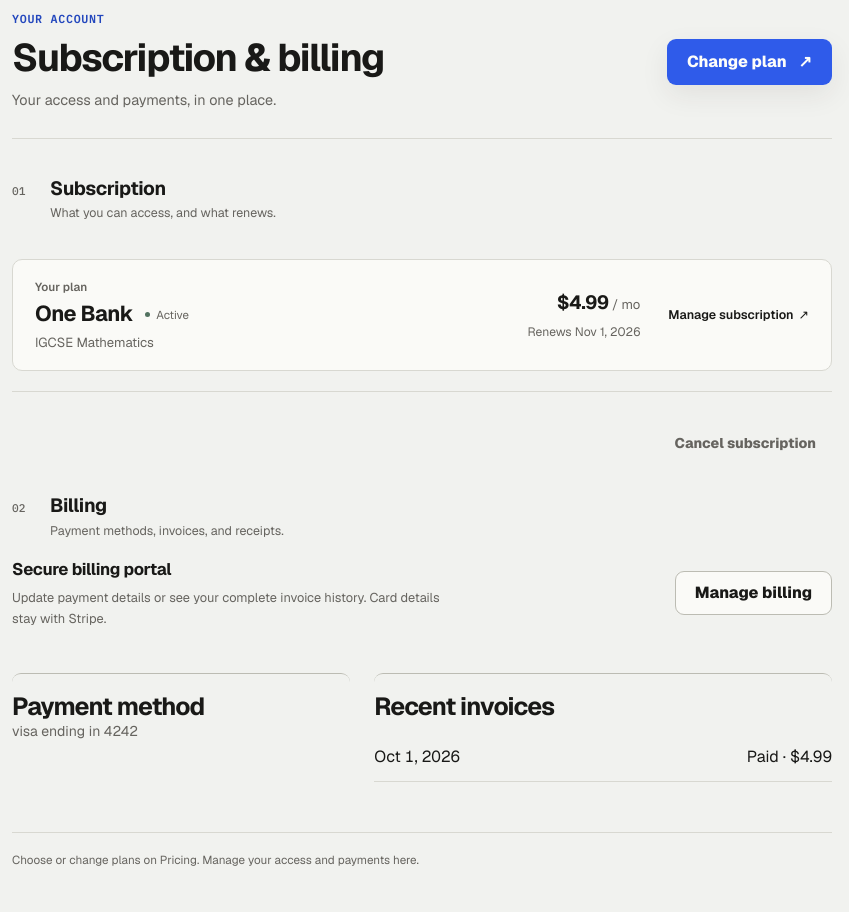
Test: Subscription & billing hub › loads one verified snapshot for both sections and preserves cancellation review
Expected: the link "Change plan ↗" is shown, [667, 39, 832, 85]
Expected: the button "Manage billing" is enabled, [675, 571, 832, 615]
Click the button "Cancel subscription".
click(745, 443)  # box [658, 422, 832, 464]
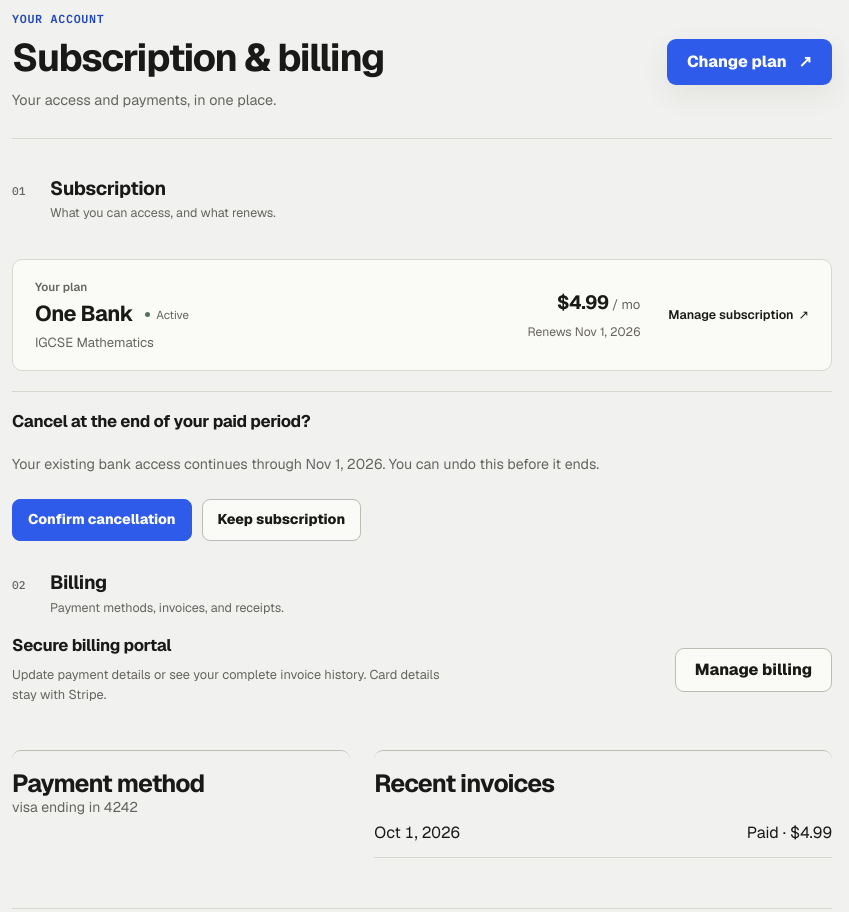
Now the heading "Cancel at the end of your paid period?" is shown, box [12, 410, 310, 432]
